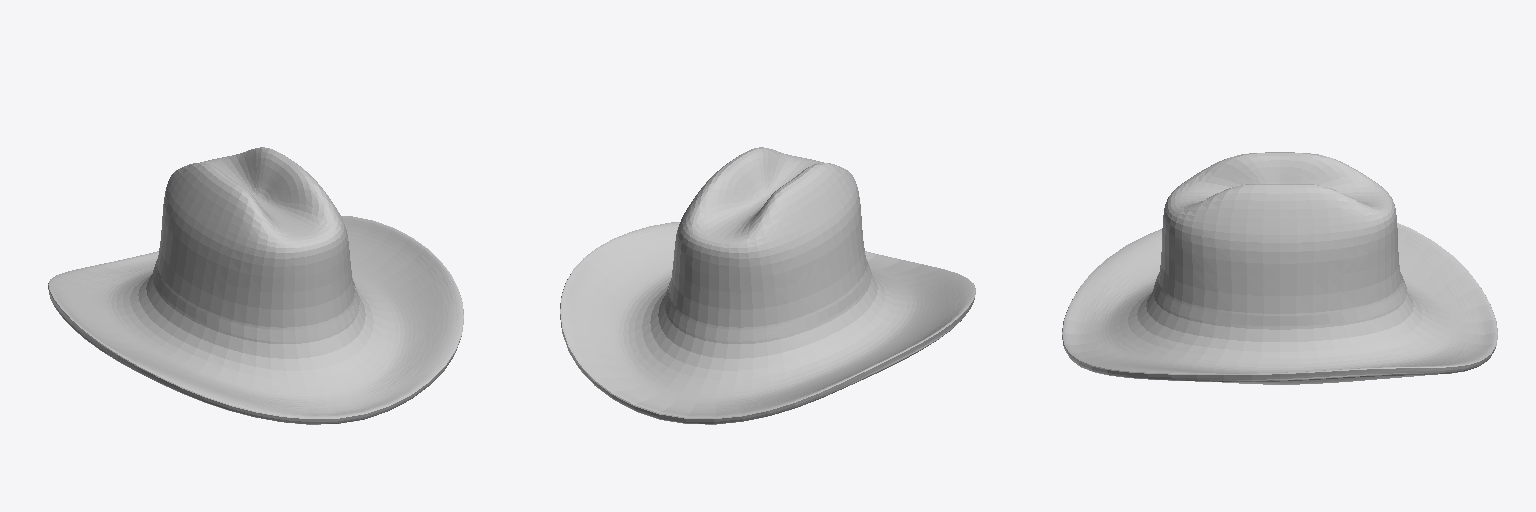
The model's file is hat.obj.
3 renders of one model, left to right at view 1: azimuth 30°, elevation 25°; view 2: azimuth 150°, elevation 25°; view 3: azimuth 270°, elevation 25°, orthographic.
Visible parts, largest first — view 1: default; view 2: default; view 3: default.
Boxes of the visible parts, x1=… form: default: x1=48, y1=147, x2=463, y2=424; default: x1=560, y1=147, x2=975, y2=424; default: x1=1062, y1=152, x2=1497, y2=384.
Bounding box in the file's own units: 8.54 × 4.14 × 9.41.